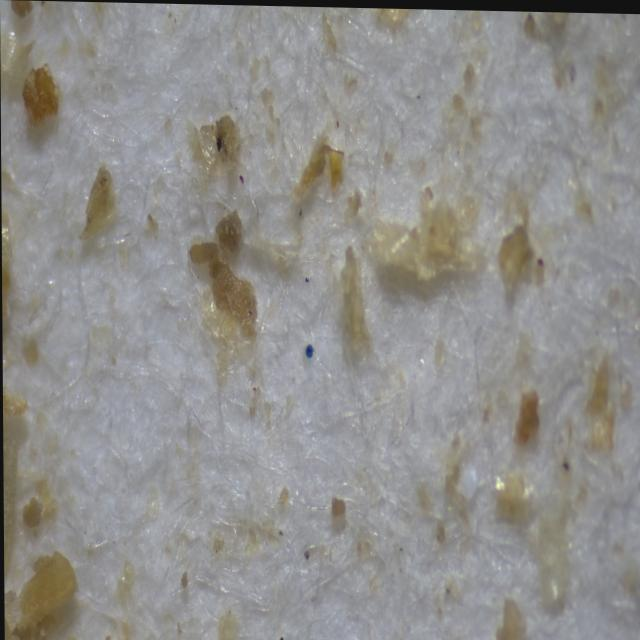microplastic: (302, 342, 314, 360)
